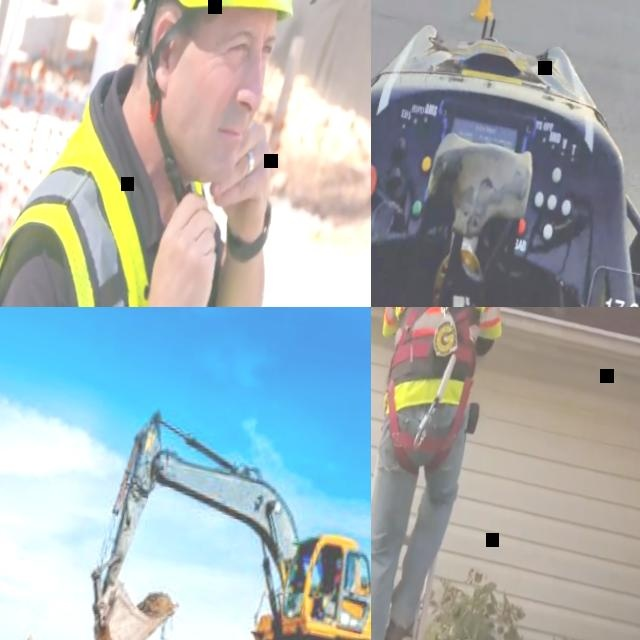Hardhat: (127, 0, 326, 46)
NO-Mask: (159, 49, 271, 194)
Person: (0, 0, 353, 307), (371, 307, 535, 640), (321, 557, 345, 615)
Safety Cone: (469, 0, 506, 21)
Safety Vest: (0, 88, 260, 307), (372, 307, 516, 401), (333, 567, 346, 589)
machinery: (73, 397, 371, 640)
vehicle: (371, 0, 640, 307)
